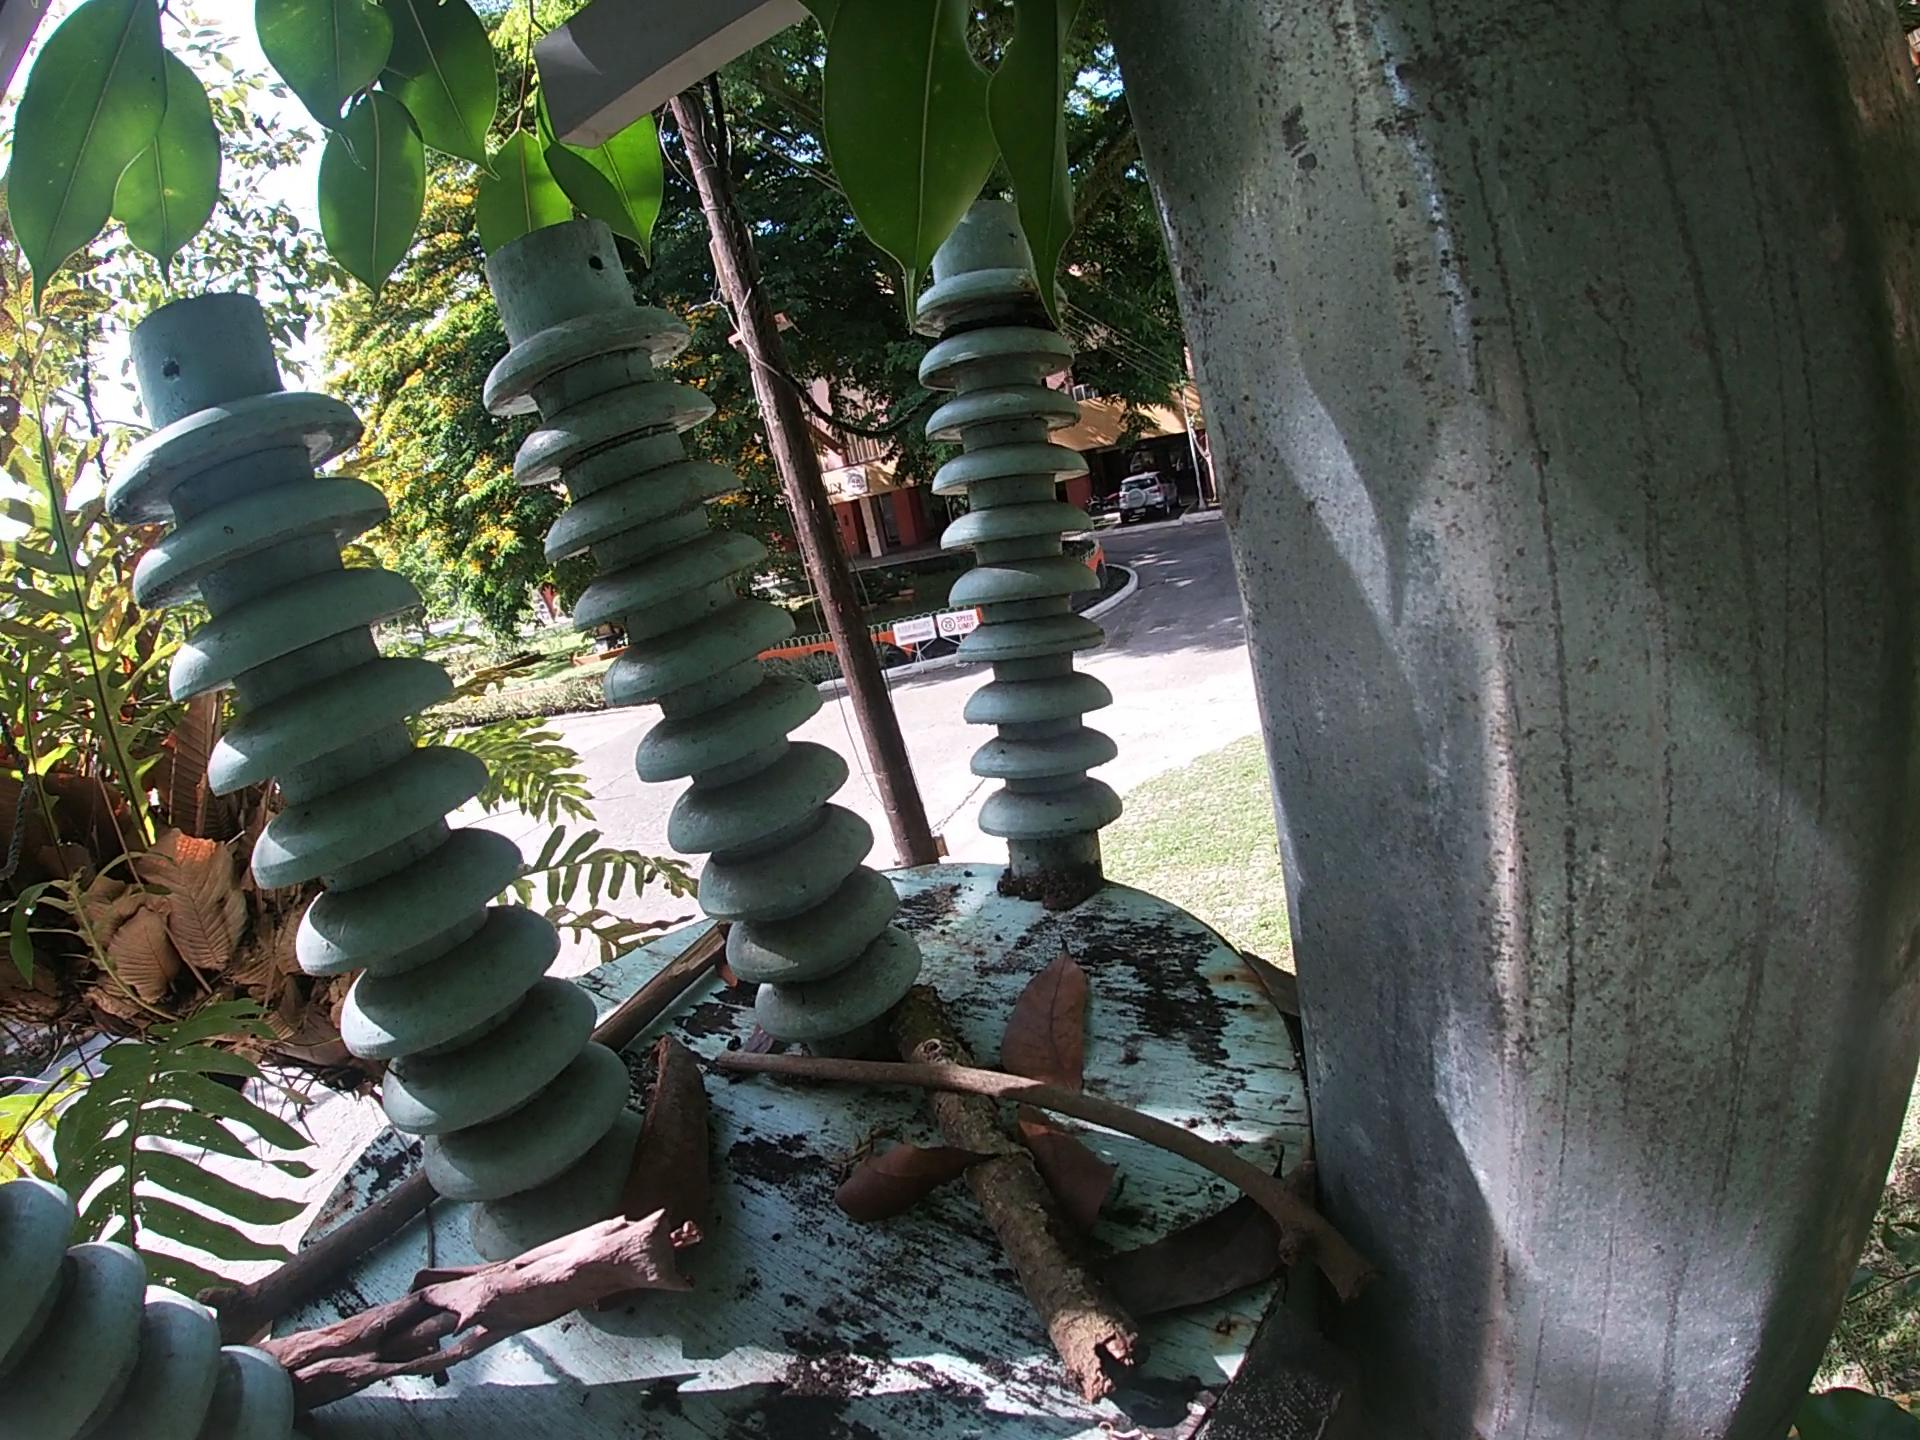leaf: (1101, 1156, 1342, 1313), (1010, 1115, 1141, 1234), (1008, 923, 1096, 1094), (831, 1142, 1017, 1213)
mahogany fruit: (633, 1030, 712, 1212), (712, 933, 742, 1004)
tree branch: (252, 1181, 768, 1414), (695, 1048, 1335, 1236), (904, 986, 1157, 1410), (210, 1165, 451, 1333), (596, 930, 726, 1051), (407, 1201, 447, 1290)
